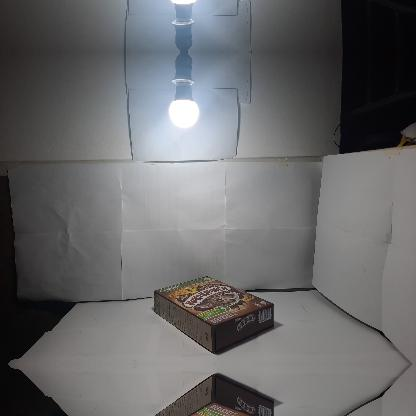Koko-Krunch: (152, 275, 274, 353), (152, 375, 274, 415)
